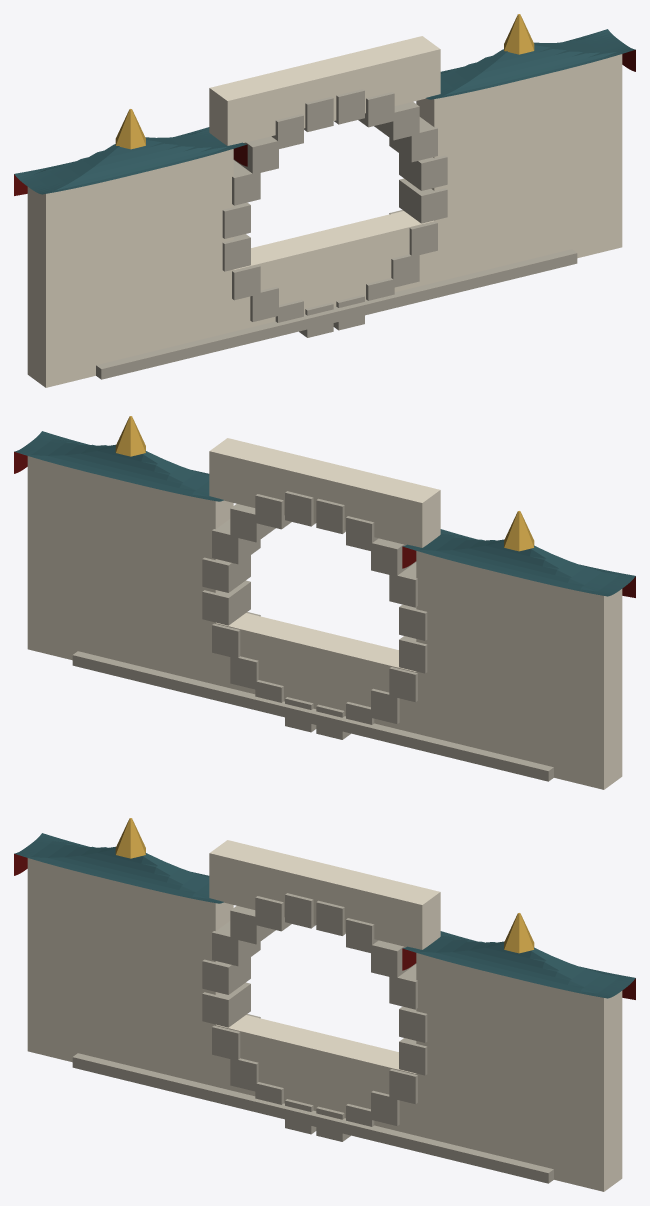
The model's file is moon-gate.glb.
3 views of the same model, one above another, from view 1: azimuth 30°, elevation 25°; view 2: azimuth 150°, elevation 25°; view 3: azimuth 330°, elevation 25° (orthographic).
Parts seen in each view (by area): view 1: moon-gate; view 2: moon-gate; view 3: moon-gate.
Part boxes in pixels (x1=…): moon-gate: x1=14, y1=14, x2=635, y2=387; moon-gate: x1=14, y1=416, x2=635, y2=789; moon-gate: x1=14, y1=818, x2=635, y2=1191.
Size of the model in its own units: 9.48 by 3.98 by 0.8.
